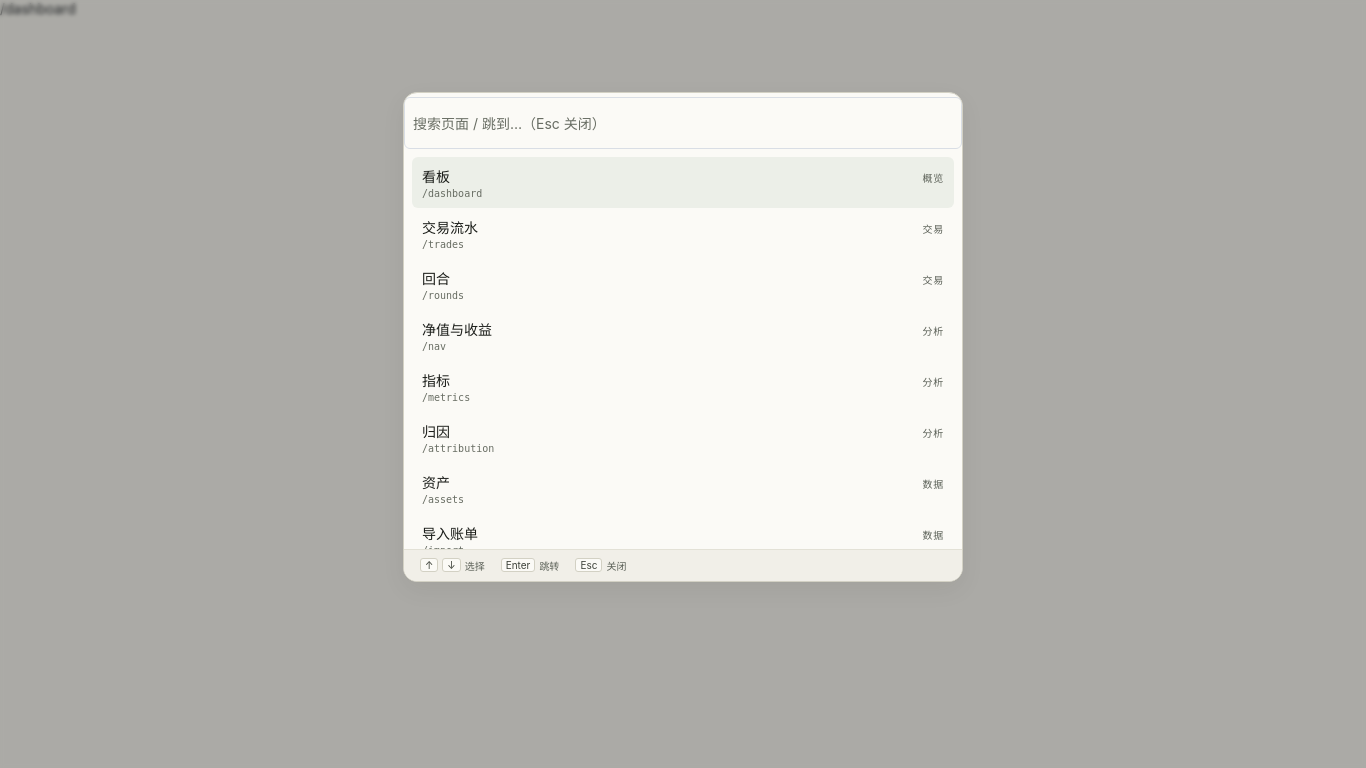
Test: CommandPalette（Phase 4b） › 无匹配时展示空态
The width and height of the screenshot is (1366, 768).
In the dropdown: {"x": 683, "y": 123} [404, 97, 962, 149], type "zzzz"
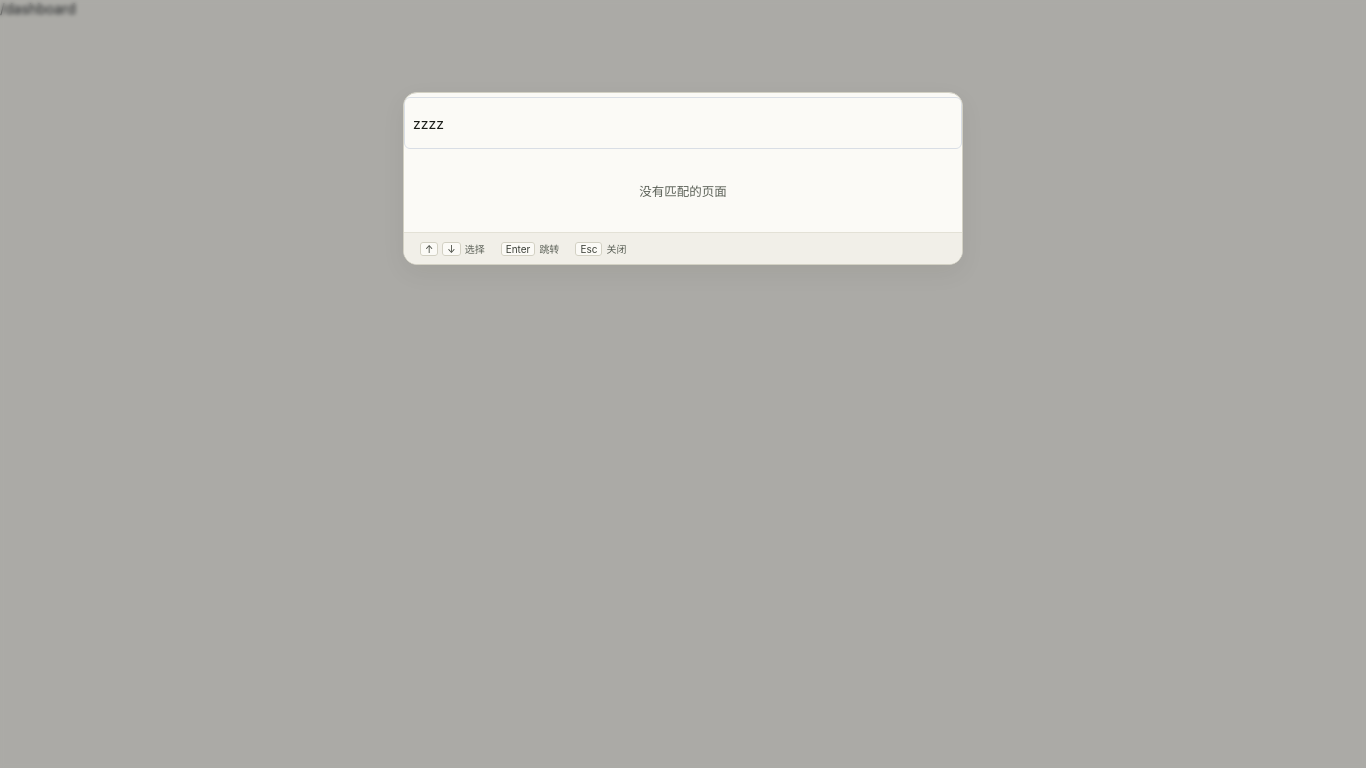
Now the list item "没有匹配的页面" is shown, box [639, 184, 727, 199]
